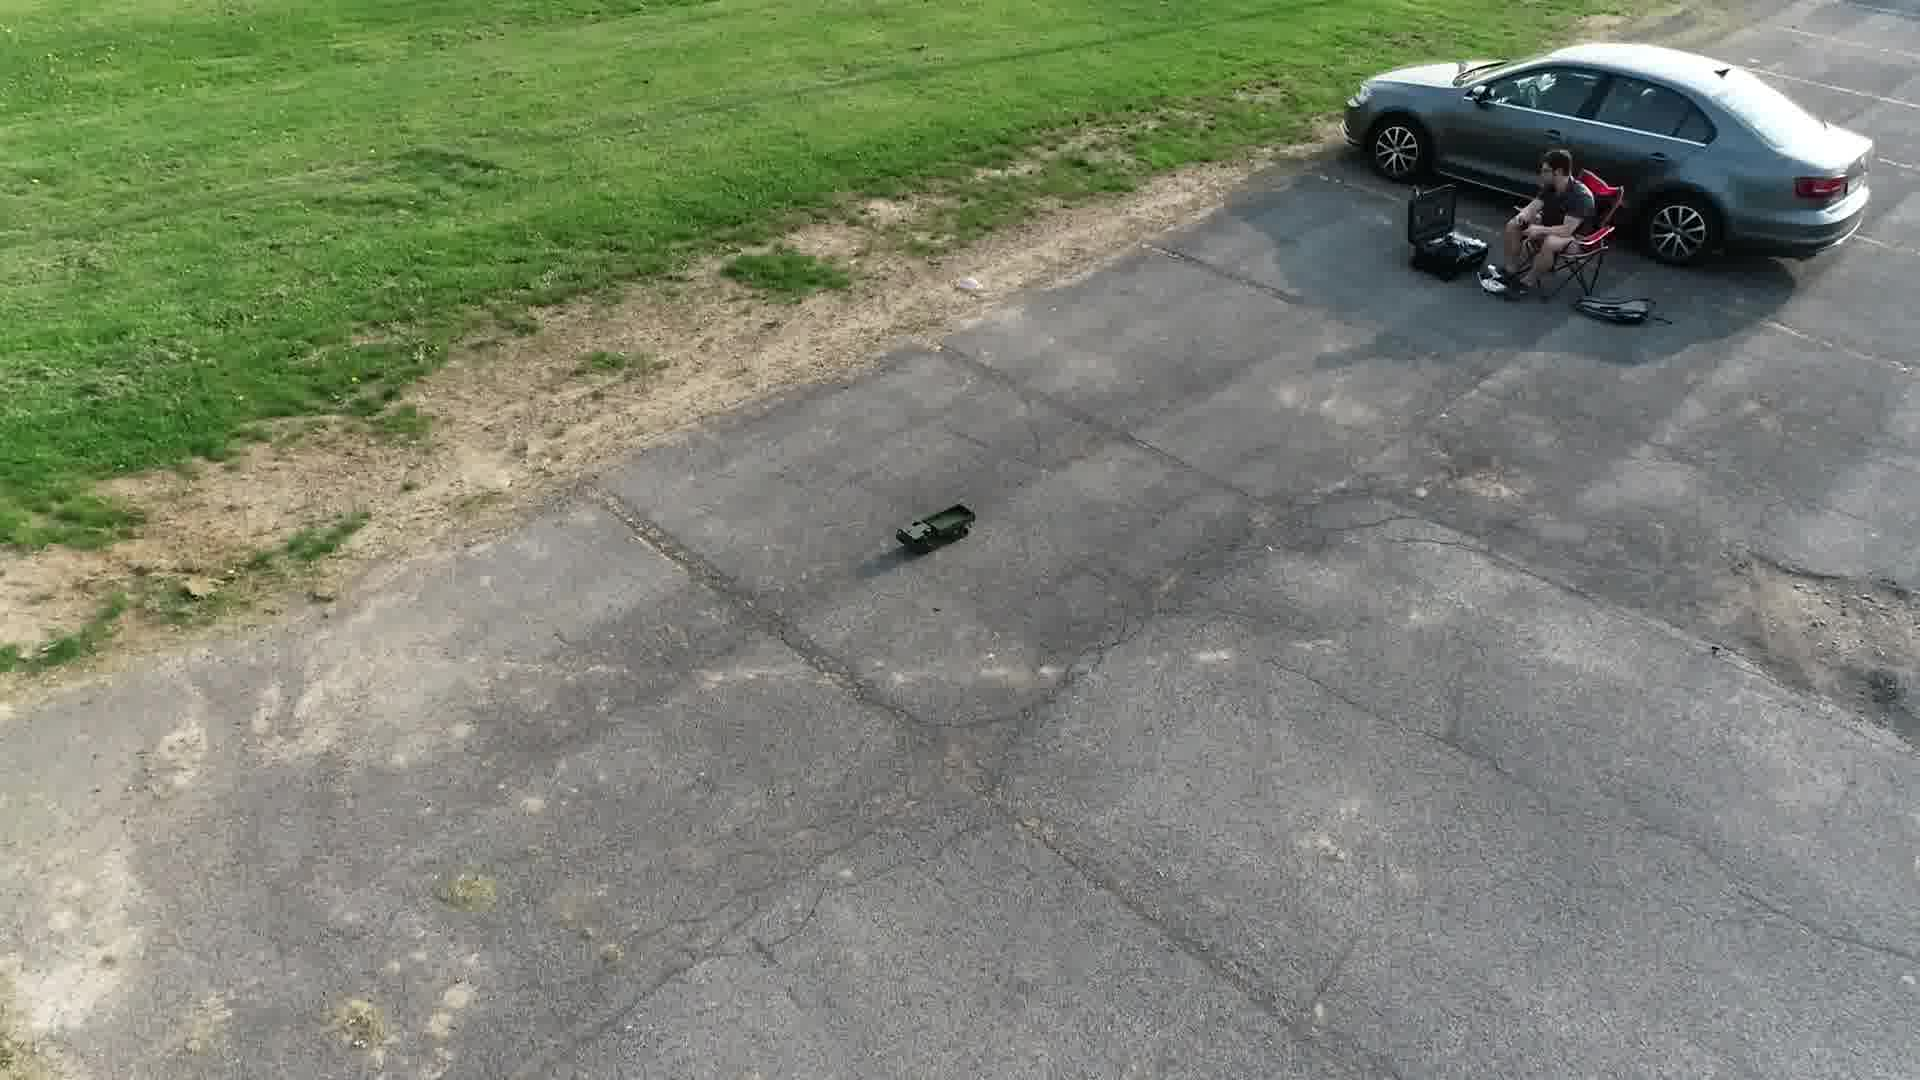transporter9: (890, 498, 982, 556)
